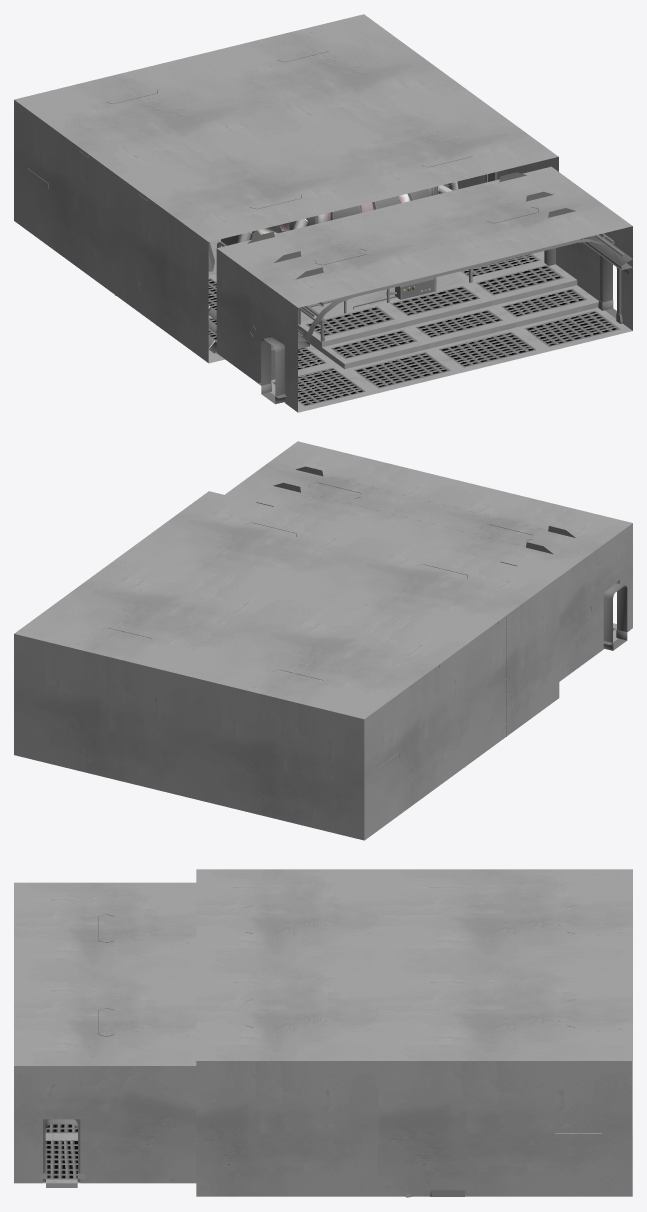
Rendered from MSH_Fusion_reactor_room_L3_R2_optimized.fbx.
3 views of the same model, one above another, from view 1: azimuth 30°, elevation 25°; view 2: azimuth 150°, elevation 25°; view 3: azimuth 270°, elevation 25° (orthographic). The views are drawn at different scales.
Parts seen in each view (by area): view 1: lightmap0, lightmap1, lightmap-1; view 2: lightmap0, lightmap-1, lightmap1; view 3: lightmap0.
Part boxes in pixels (x1=…): lightmap0: x1=14, y1=14, x2=632, y2=412; lightmap1: x1=79, y1=51, x2=632, y2=380; lightmap-1: x1=261, y1=257, x2=616, y2=404; lightmap0: x1=14, y1=441, x2=632, y2=840; lightmap-1: x1=603, y1=583, x2=627, y2=650; lightmap1: x1=100, y1=466, x2=595, y2=767; lightmap0: x1=14, y1=869, x2=632, y2=1196.
Size of the model in its own units: 20.64 by 6.86 by 28.01.
